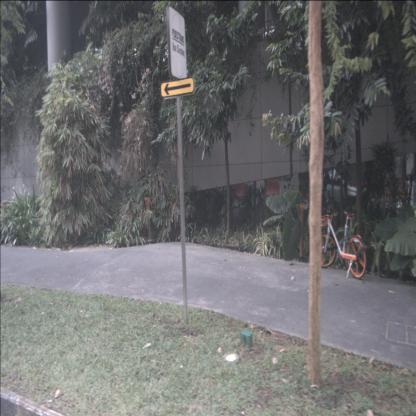vehicle-bicycle: (316, 199, 367, 279)
